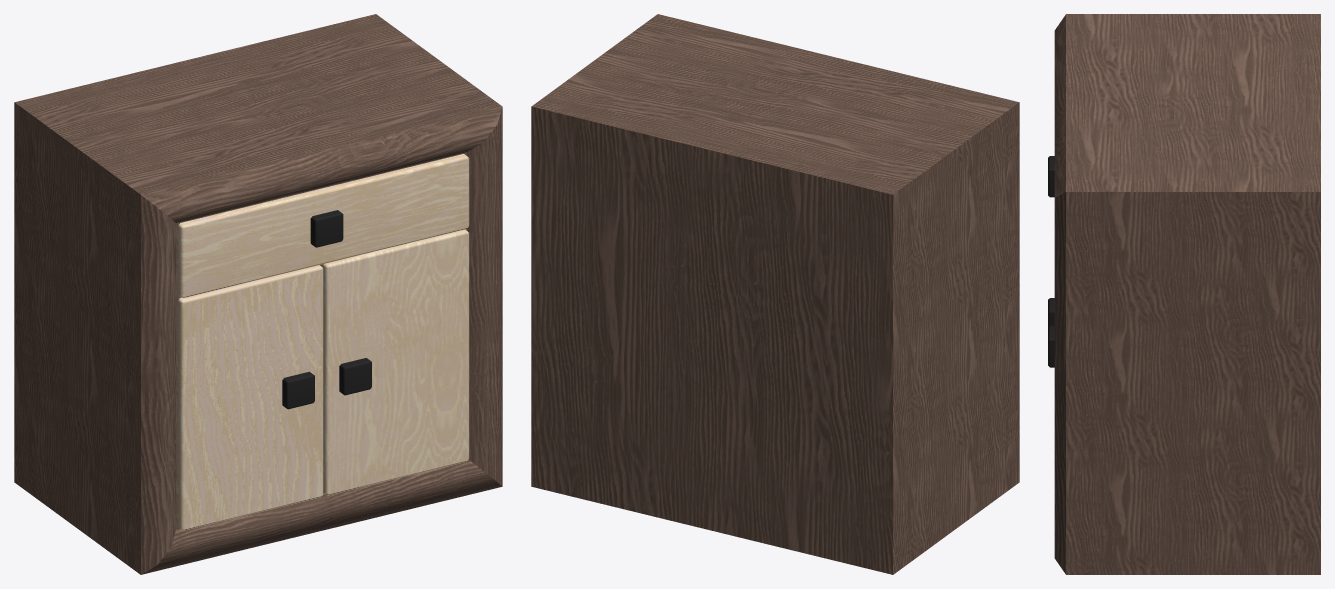
The model's file is cupboard_032.fbx.
3 renders of one model, left to right at view 1: azimuth 30°, elevation 25°; view 2: azimuth 150°, elevation 25°; view 3: azimuth 270°, elevation 25°, orthographic.
Visible parts, largest first — view 1: cupboard_032; view 2: cupboard_032; view 3: cupboard_032.
Part boxes in pixels (<box>): cupboard_032: <box>14,14,502,574</box>; cupboard_032: <box>531,14,1019,574</box>; cupboard_032: <box>1048,14,1320,574</box>.
Size of the model in its own units: 114 by 74.22 by 115.
